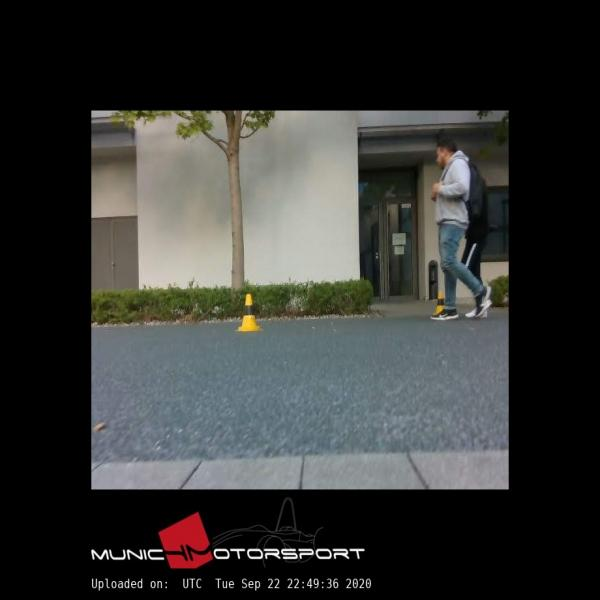yellow_cone: (238, 294, 261, 332), (434, 292, 444, 314)
